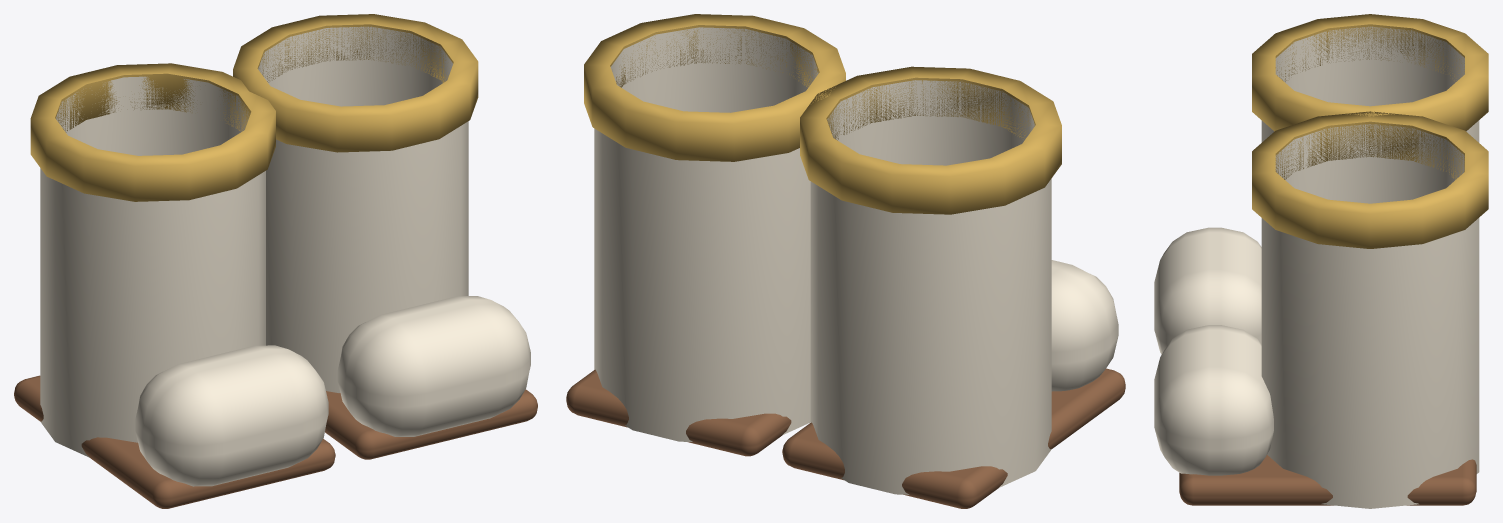
File: cowboy_boots.glb
3 views of the same model, side by side, from view 1: azimuth 30°, elevation 25°; view 2: azimuth 150°, elevation 25°; view 3: azimuth 270°, elevation 25° (orthographic). The views are drawn at different scales.
Visible parts, largest first — view 1: cowboy_boots_LegL, cowboy_boots_LegR; view 2: cowboy_boots_LegL, cowboy_boots_LegR; view 3: cowboy_boots_LegR, cowboy_boots_LegL.
Part boxes in pixels (left/top/right/bottom): cowboy_boots_LegL: left=14, top=63, right=335, bottom=508; cowboy_boots_LegR: left=233, top=14, right=537, bottom=459; cowboy_boots_LegL: left=782, top=66, right=1125, bottom=508; cowboy_boots_LegR: left=566, top=14, right=845, bottom=456; cowboy_boots_LegR: left=1154, top=111, right=1488, bottom=508; cowboy_boots_LegL: left=1154, top=14, right=1488, bottom=354.
Size of the model in its own units: 0.39 by 0.2765 by 0.2755.
